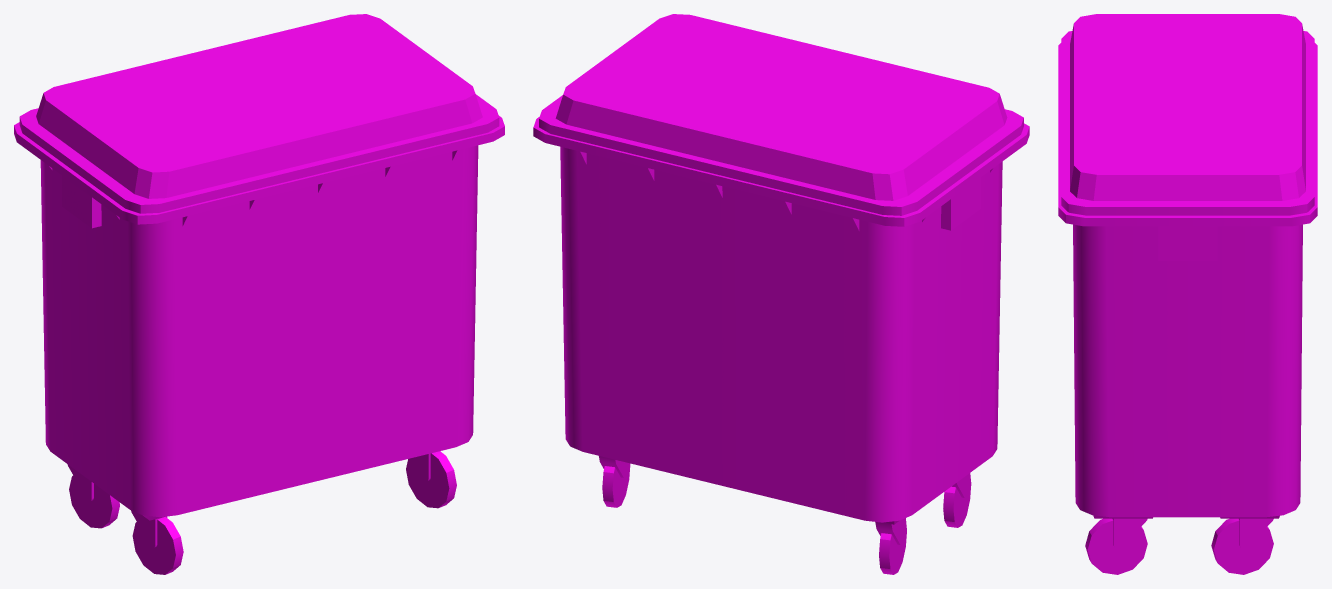
Rendered from container.fbx.
3 views of the same model, side by side, from view 1: azimuth 30°, elevation 25°; view 2: azimuth 150°, elevation 25°; view 3: azimuth 270°, elevation 25° (orthographic). The views are drawn at different scales.
Visible parts, largest first — view 1: container_bin; view 2: container_bin; view 3: container_bin.
Boxes of the visible parts, <box> form: container_bin: <box>14,14,504,574</box>; container_bin: <box>533,14,1029,574</box>; container_bin: <box>1058,14,1317,574</box>.
Size of the model in its own units: 1.92 by 2.03 by 1.15.
